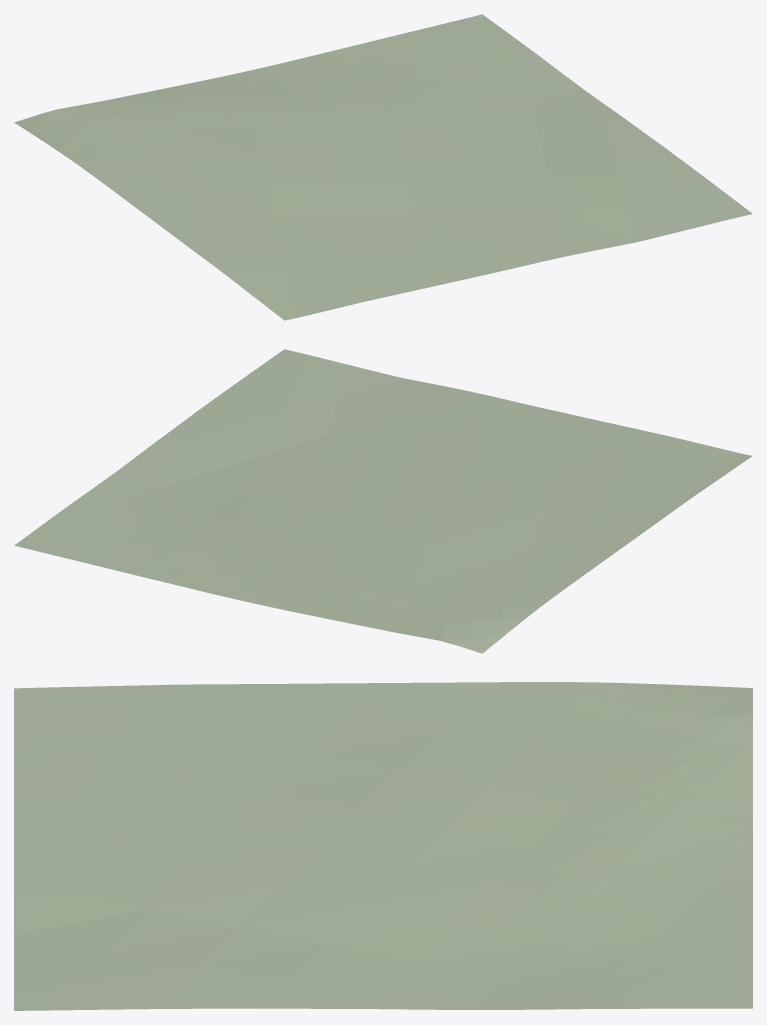
The model's file is SM_MPRR_Terrain_-2_4.fbx.
3 views of the same model, one above another, from view 1: azimuth 30°, elevation 25°; view 2: azimuth 150°, elevation 25°; view 3: azimuth 270°, elevation 25° (orthographic). The views are drawn at different scales.
Parts seen in each view (by area): view 1: SM_MPRR_Terrain_-2_4; view 2: SM_MPRR_Terrain_-2_4; view 3: SM_MPRR_Terrain_-2_4.
Part boxes in pixels (x1,y1,x2,y2): SM_MPRR_Terrain_-2_4: (14, 14, 752, 320); SM_MPRR_Terrain_-2_4: (14, 349, 752, 653); SM_MPRR_Terrain_-2_4: (14, 682, 752, 1010).
Size of the model in its own units: 15000 by 15000 by 377.
